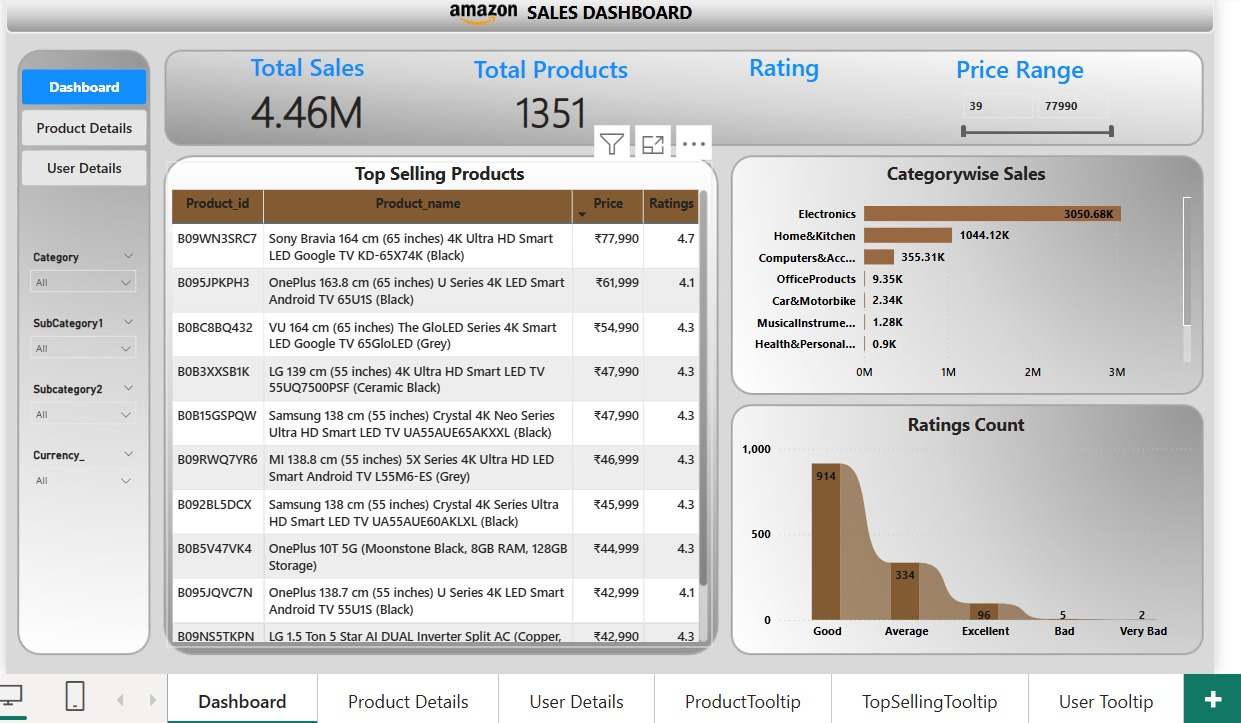

What the dashboard file says about the page in this screenshot:
{"tool":"powerbi","page":{"name":"Dashboard","canvas":[1280,720],"ordinal":0},"visuals":[{"type":"barChart","title":" Categorywise Sales","fields":{"Category":["amazon.Category","amazon.SubCategory1"],"Y":["amazon.Total Sales (Currency)"]},"box":[774.1,177.2,486.7,241.4],"z":0},{"type":"ribbonChart","title":" Ratings Count","fields":{"Category":["amazon.Ratings"],"Y":["CountNonNull(amazon.product_id)"]},"box":[774.1,441.7,486.7,250.1],"z":1000},{"type":"tableEx","title":"Top Selling Products","fields":{"Values":["amazon.product_id","amazon.product_name","amazon.Curr Conversion","Sum(amazon.rating)"]},"box":[170.5,177.2,578.7,514.5],"z":2000},{"type":"textbox","box":[0,0,1280,42.2],"z":3000},{"type":"card","title":"Total Sales","fields":{"Values":["amazon.Total Sales"]},"box":[186.8,59.4,266.3,90.1],"z":4000},{"type":"card","title":"Total Products","fields":{"Values":["CountNonNull(amazon.product_id)"]},"box":[448.7,60.6,258.1,89.6],"z":5000},{"type":"slicer","title":"Price Range","fields":{"Values":["amazon.sales_price"]},"box":[1002.7,59.7,185.3,90.4],"z":6000},{"type":"slicer","fields":{"Values":["amazon.Category"]},"box":[15.3,265.4,132.2,64.2],"z":7000},{"type":"slicer","fields":{"Values":["amazon.SubCategory1"]},"box":[15.3,336.3,132.2,64.2],"z":8000},{"type":"slicer","fields":{"Values":["amazon.SubCategory2"]},"box":[15.3,405.3,132.2,64.2],"z":9000},{"type":"slicer","fields":{"Values":["Conversion.Currency_"]},"box":[15.3,476.2,132.2,64.2],"z":10000},{"type":"pageNavigator","box":[15.8,78.1,134.3,125.6],"z":11000},{"type":"image","box":[460.1,5.3,93.1,31.6],"z":12000},{"type":"PBI_CV_9053509D_D461_463A_B485_CE9F6AB0F13D","title":"Rating ","fields":{"value":["amazon.Average Quality"]},"box":[706.8,58.8,238,102.7],"z":13001}]}

Visuals, with their boxes on the page's 1280x720 design canvas (x1, y1, x2, y2). These are canvas units, not pixel positions in the 1241x723 screenshot, which may show the page scaled, cropped or inside an application window:
" Categorywise Sales" barChart: pyautogui.locateOnScreen(774, 177, 1261, 419)
" Ratings Count" ribbonChart: pyautogui.locateOnScreen(774, 442, 1261, 692)
"Top Selling Products" tableEx: pyautogui.locateOnScreen(170, 177, 749, 692)
textbox: pyautogui.locateOnScreen(0, 0, 1280, 42)
"Total Sales" card: pyautogui.locateOnScreen(187, 59, 453, 150)
"Total Products" card: pyautogui.locateOnScreen(449, 61, 707, 150)
"Price Range" slicer: pyautogui.locateOnScreen(1003, 60, 1188, 150)
slicer - amazon.Category: pyautogui.locateOnScreen(15, 265, 148, 330)
slicer - amazon.SubCategory1: pyautogui.locateOnScreen(15, 336, 148, 400)
slicer - amazon.SubCategory2: pyautogui.locateOnScreen(15, 405, 148, 470)
slicer - Conversion.Currency_: pyautogui.locateOnScreen(15, 476, 148, 540)
pageNavigator: pyautogui.locateOnScreen(16, 78, 150, 204)
image: pyautogui.locateOnScreen(460, 5, 553, 37)
"Rating " PBI_CV_9053509D_D461_463A_B485_CE9F6AB0F13D: pyautogui.locateOnScreen(707, 59, 945, 162)
